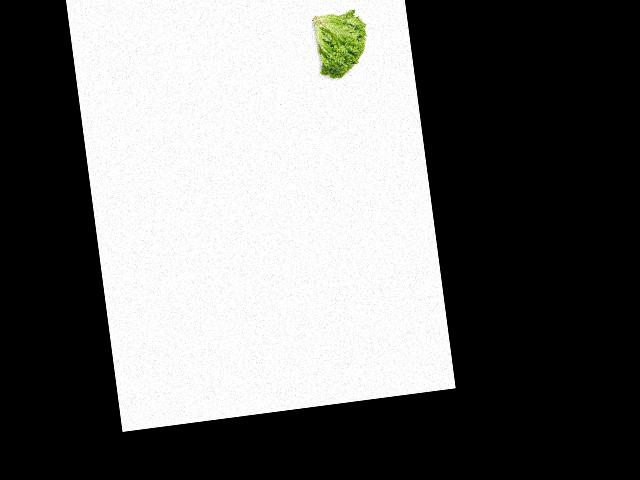lettuce: (305, 5, 376, 84)
